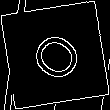O_SE: (21, 22, 89, 88)
